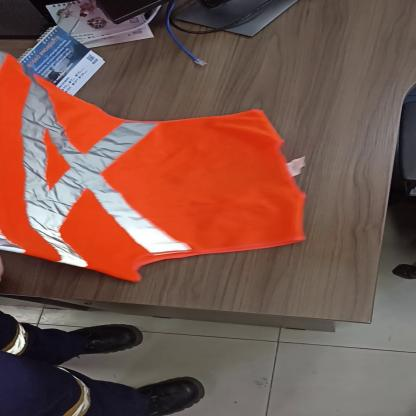colete: (0, 48, 317, 286)
